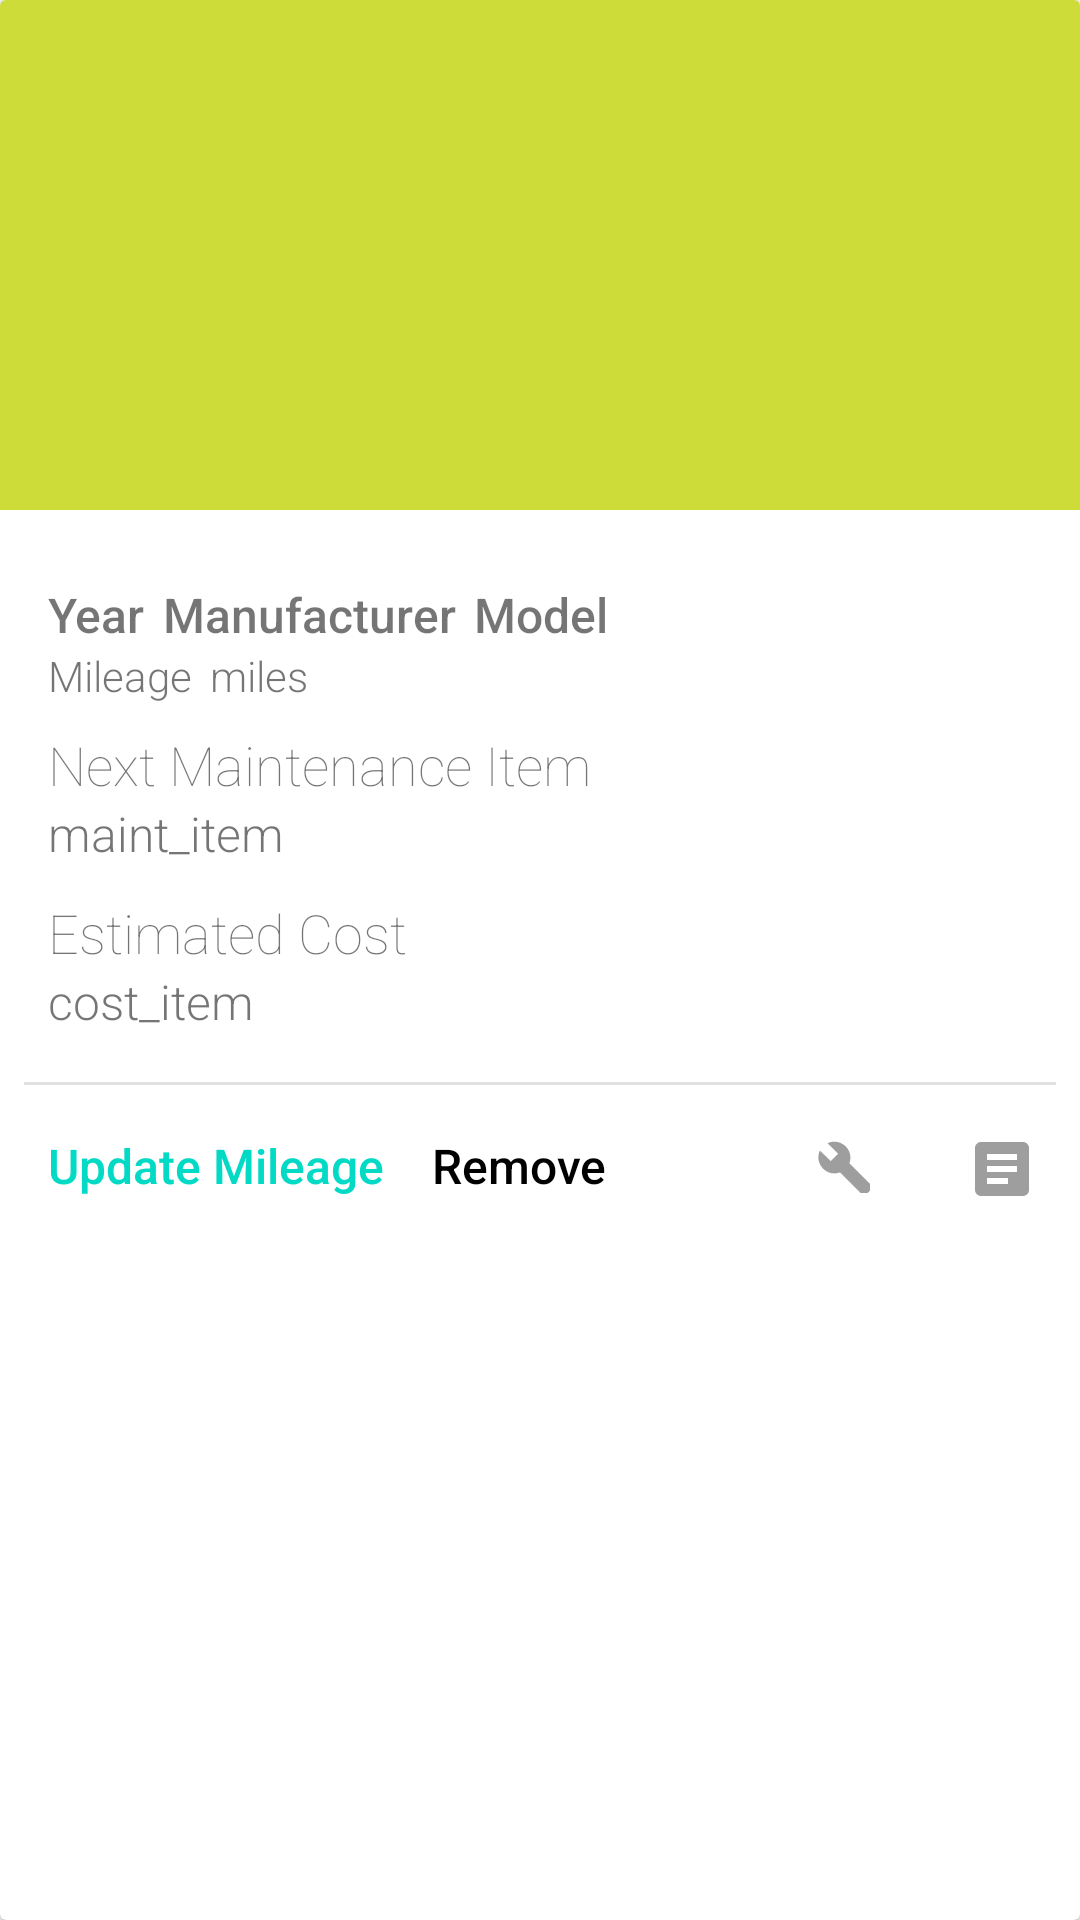

Screen size 1080 x 1920. Icon name, then its box in pixels as (x1, y1, x2, y2):
file document box: (975, 1142, 1029, 1196)
wrench: (818, 1142, 870, 1193)
